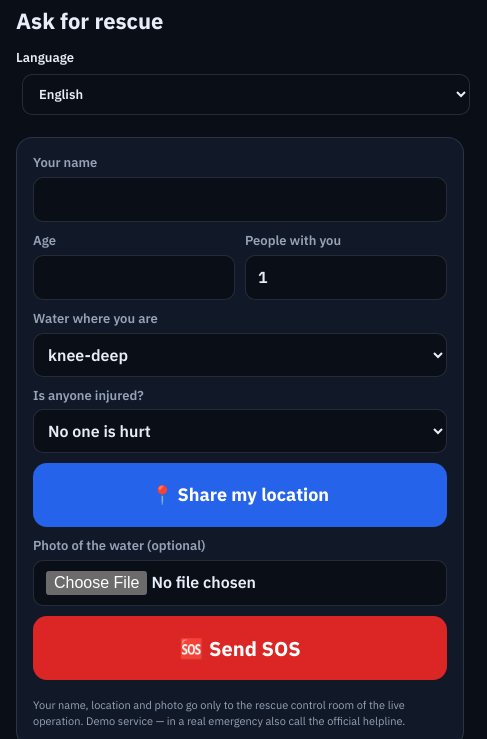
Test: citizen SOS page (F4) › sends the SOS and switches to the ticket status screen
This screenshot has width=487, height=739.
Type "Meena" into the field labelled "Your name". click: point(240, 199)
box: [33,176,447,222]
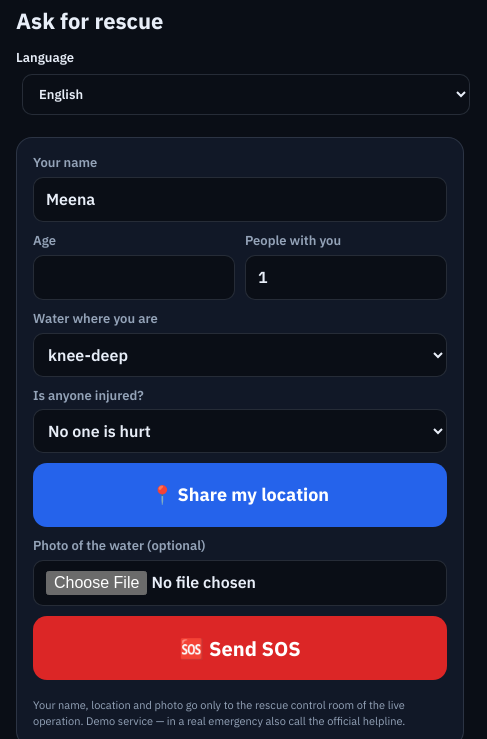
Click the button "📍 Share my location". click: point(240, 495)
box: [33,463,447,527]
(page scrolled)
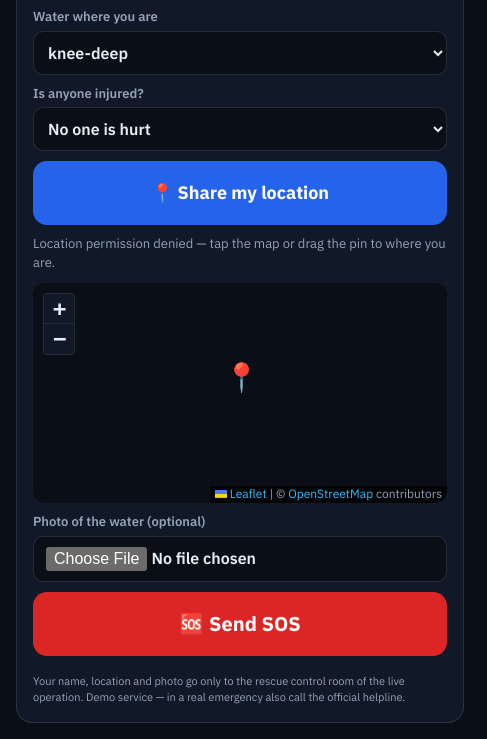
Click the button "🆘 Send SOS". click: point(240, 624)
box: [33,592,447,656]
(page scrolled)
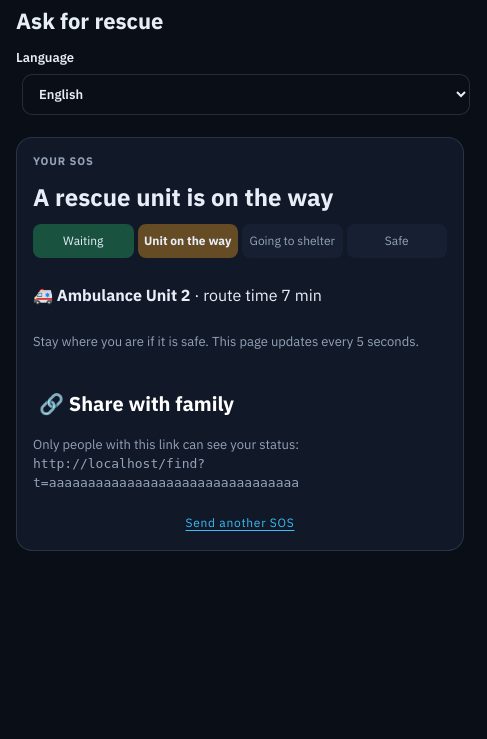
Result: the heading "A rescue unit is on the way" is shown at [33,181,333,213]
